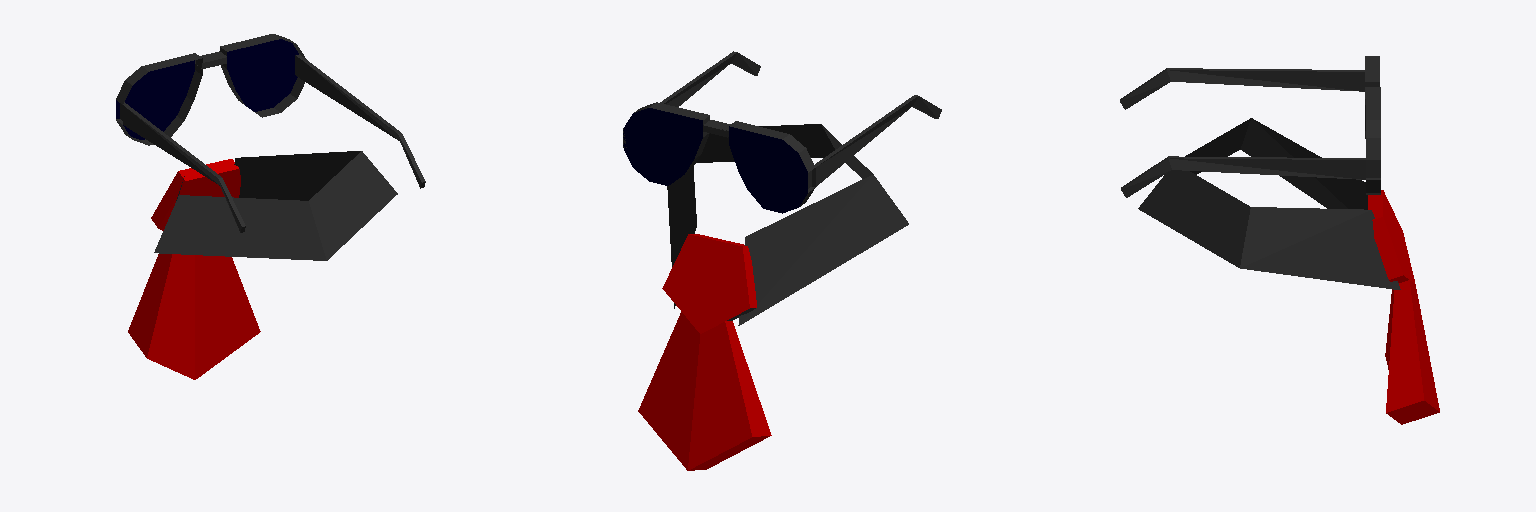
The model's file is colarinho_e_oculos.obj.
The picture shows the model from 3 angles: view 1: azimuth 30°, elevation 25°; view 2: azimuth 150°, elevation 25°; view 3: azimuth 270°, elevation 25°; orthographic projection.
Parts seen in each view (by area): view 1: Circle_Circle; view 2: Circle_Circle; view 3: Circle_Circle.
Boxes of the visible parts, x1=… form: Circle_Circle: x1=116, y1=34, x2=425, y2=379; Circle_Circle: x1=623, y1=51, x2=941, y2=470; Circle_Circle: x1=1120, y1=56, x2=1439, y2=424.
Size of the model in its own units: 7.5 by 9.92 by 8.53.